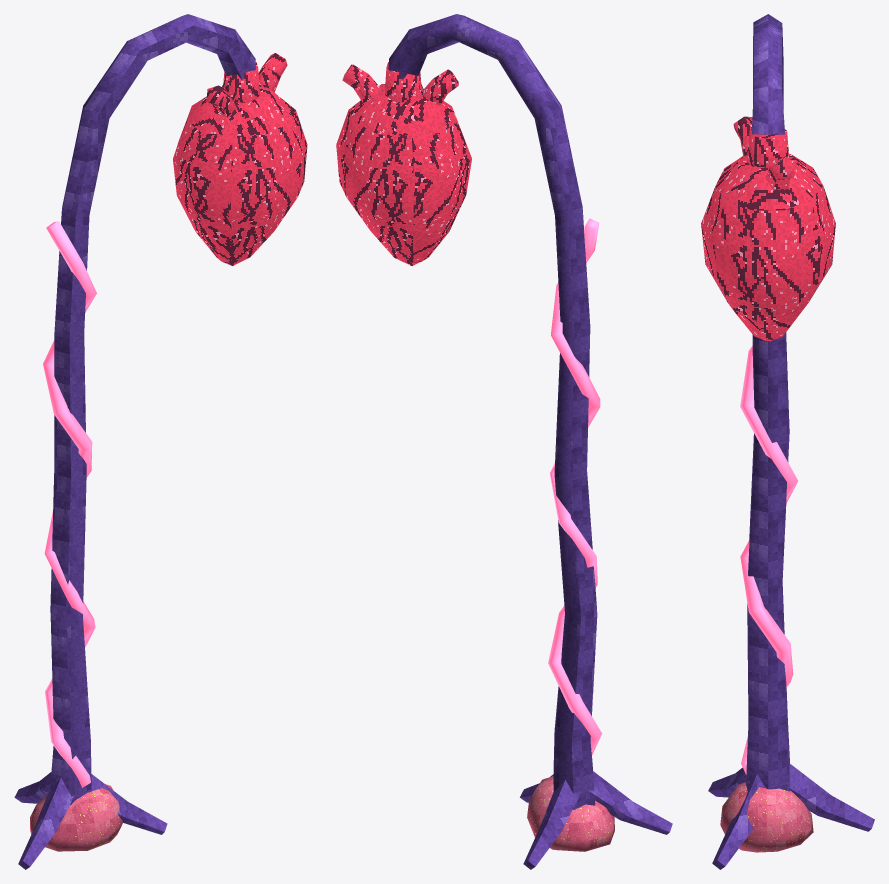
Rendered from s_heartlamp.glb.
The picture shows the model from 3 angles, left to right: view 1: azimuth 30°, elevation 25°; view 2: azimuth 150°, elevation 25°; view 3: azimuth 270°, elevation 25°; orthographic projection. The views are drawn at different scales.
Visible parts, largest first — view 1: heartlamp_hl_vein, heartlamp_hl_heart_pulse, heartlamp_hl_artery_glow_pulse, heartlamp_gut_flesh_pulse; view 2: heartlamp_hl_vein, heartlamp_hl_heart_pulse, heartlamp_hl_artery_glow_pulse, heartlamp_gut_flesh_pulse; view 3: heartlamp_hl_vein, heartlamp_hl_heart_pulse, heartlamp_gut_flesh_pulse, heartlamp_hl_artery_glow_pulse.
Part boxes in pixels (bbox=[...]): heartlamp_hl_vein: bbox=[14, 14, 255, 869]; heartlamp_hl_heart_pulse: bbox=[173, 53, 307, 265]; heartlamp_hl_artery_glow_pulse: bbox=[43, 221, 96, 787]; heartlamp_gut_flesh_pulse: bbox=[30, 784, 122, 851]; heartlamp_hl_vein: bbox=[388, 14, 672, 869]; heartlamp_hl_heart_pulse: bbox=[336, 62, 471, 265]; heartlamp_hl_artery_glow_pulse: bbox=[548, 218, 602, 754]; heartlamp_gut_flesh_pulse: bbox=[527, 776, 614, 851]; heartlamp_hl_vein: bbox=[708, 14, 874, 869]; heartlamp_hl_heart_pulse: bbox=[701, 116, 835, 341]; heartlamp_gut_flesh_pulse: bbox=[720, 782, 813, 852]; heartlamp_hl_artery_glow_pulse: bbox=[740, 346, 798, 782].
Size of what is drawn, in the model's own units: 2.02 by 5.09 by 0.9251.
Materials: 4 (3 with a texture image).
